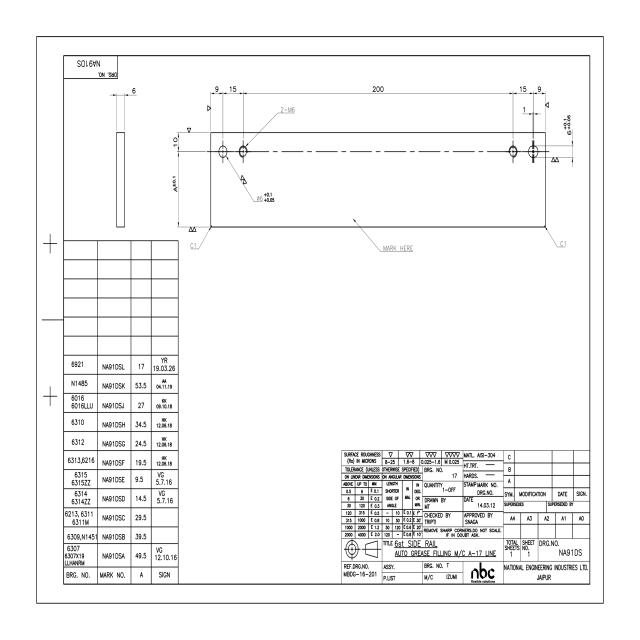dimension: (256, 190, 276, 204), (562, 112, 572, 137), (279, 104, 296, 115), (370, 84, 386, 94), (171, 174, 178, 194), (130, 84, 138, 97), (171, 136, 179, 149), (228, 84, 238, 94), (518, 84, 528, 94), (190, 241, 198, 250), (559, 239, 567, 248), (213, 85, 220, 94), (536, 84, 542, 94), (522, 105, 527, 114)
